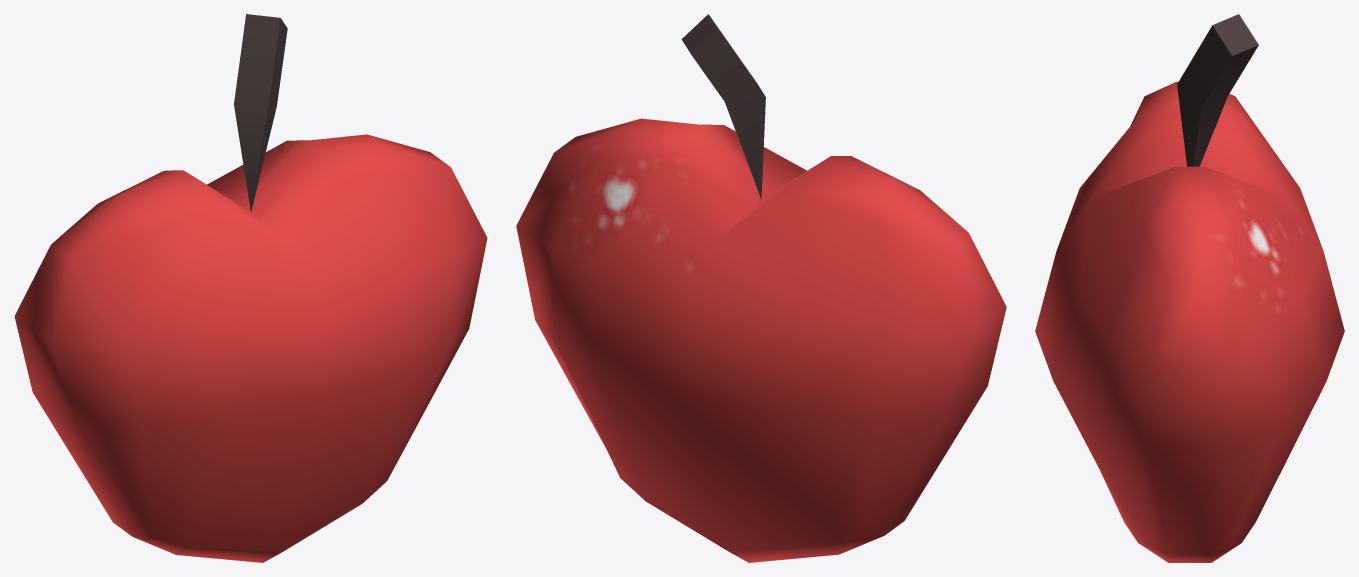
File: Apfel.fbx
3 renders of one model, left to right at view 1: azimuth 30°, elevation 25°; view 2: azimuth 150°, elevation 25°; view 3: azimuth 270°, elevation 25°, orthographic. The views are drawn at different scales.
Parts seen in each view (by area): view 1: Apfel; view 2: Apfel; view 3: Apfel.
Part boxes in pixels (x1,y1,x2,y2): Apfel: (14, 14, 487, 562); Apfel: (516, 14, 1006, 562); Apfel: (1035, 14, 1344, 562).
Size of the model in its own units: 92.64 by 106 by 54.49.
